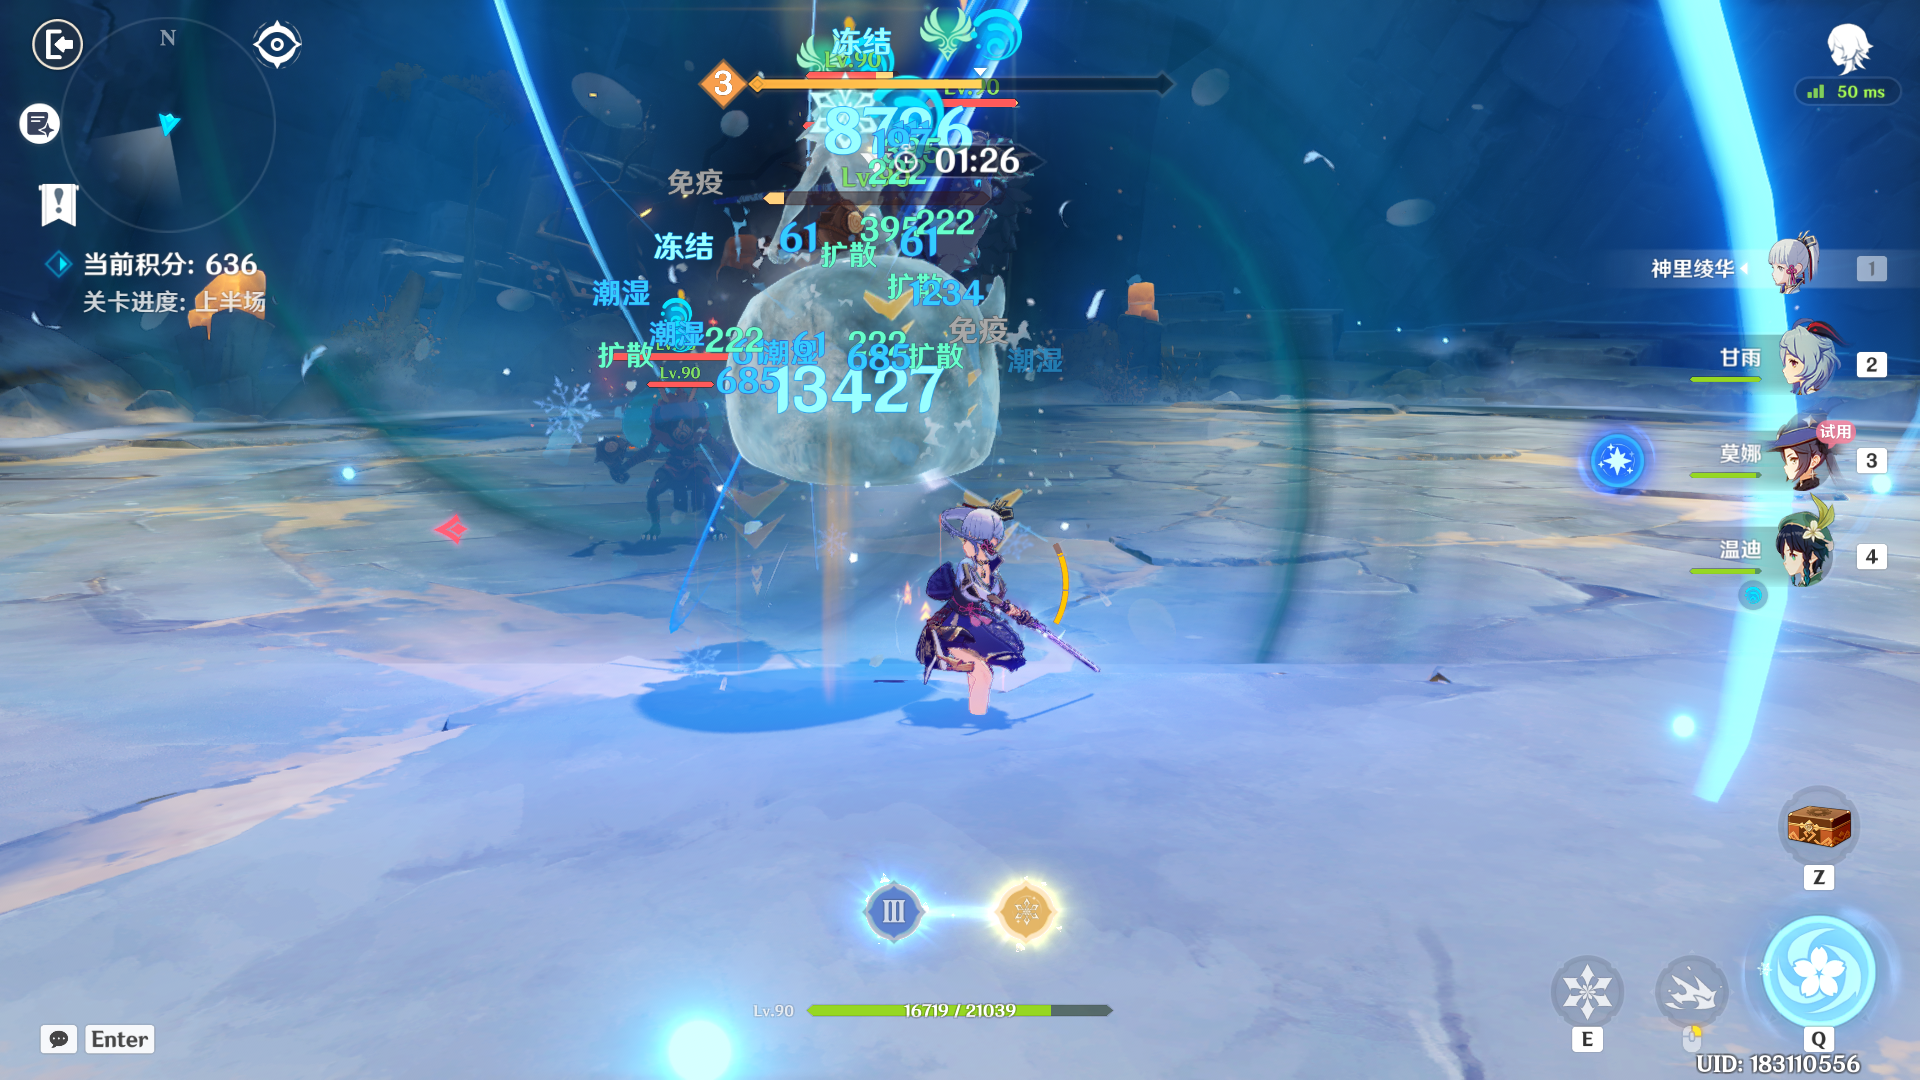character: (873, 465, 1091, 752)
hili: (588, 371, 766, 541)
slime: (708, 256, 1036, 489)
